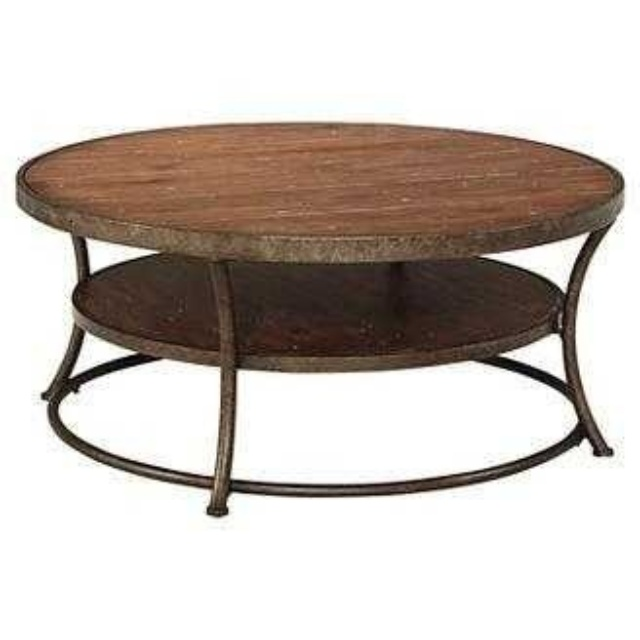obstacle: (16, 123, 622, 513)
